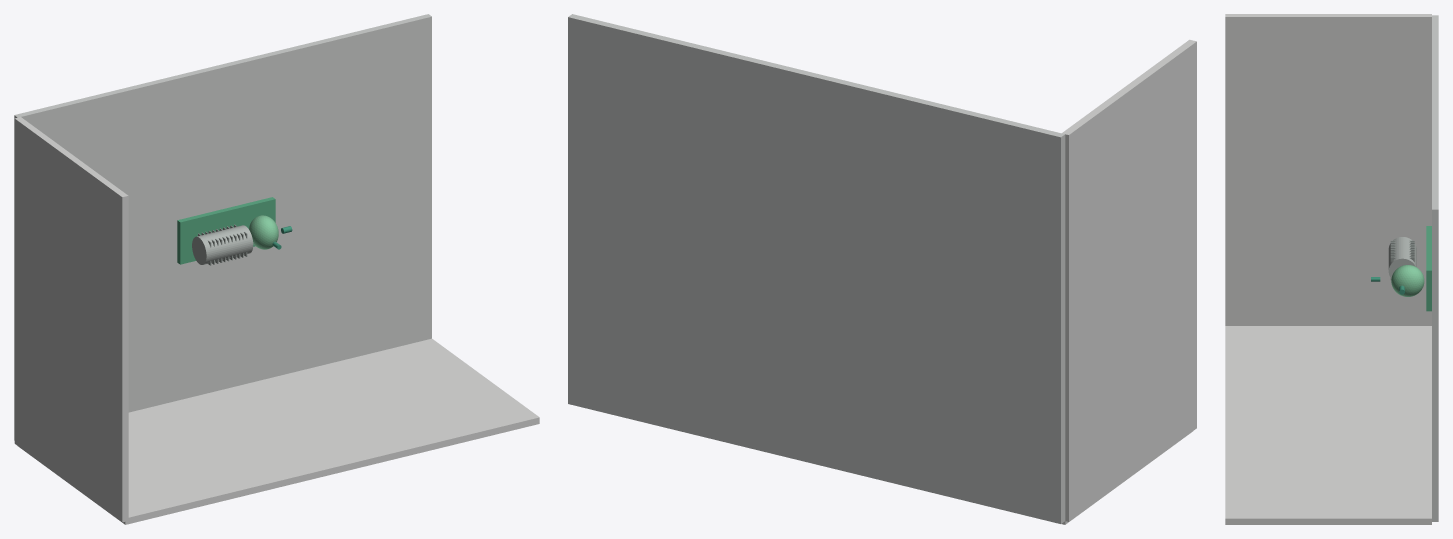
Rendered from candidate-b-coordinated.glb.
The picture shows the model from 3 angles, left to right: view 1: azimuth 30°, elevation 25°; view 2: azimuth 150°, elevation 25°; view 3: azimuth 270°, elevation 25°; orthographic projection. The views are drawn at different scales.
Visible parts, largest first — view 1: room_slab, back_wall, side_wall, equipment_base, motor, pump_casing; view 2: room_slab, side_wall; view 3: side_wall, back_wall, room_slab, pump_casing, motor, equipment_base.
Part boxes in pixels (x1,y1,x2,y2): room_slab: (14, 14, 431, 440); back_wall: (18, 338, 539, 524); side_wall: (14, 117, 128, 522); equipment_base: (177, 197, 275, 264); motor: (192, 225, 253, 264); pump_casing: (249, 215, 278, 249); room_slab: (568, 14, 1065, 523); side_wall: (1062, 39, 1196, 521); side_wall: (1225, 14, 1431, 325); back_wall: (1225, 326, 1431, 524); room_slab: (1432, 15, 1438, 521); pump_casing: (1391, 265, 1424, 296); motor: (1388, 237, 1416, 278); equipment_base: (1426, 226, 1431, 311).
Size of the model in its own units: 8.06 by 6.06 by 3.72.
